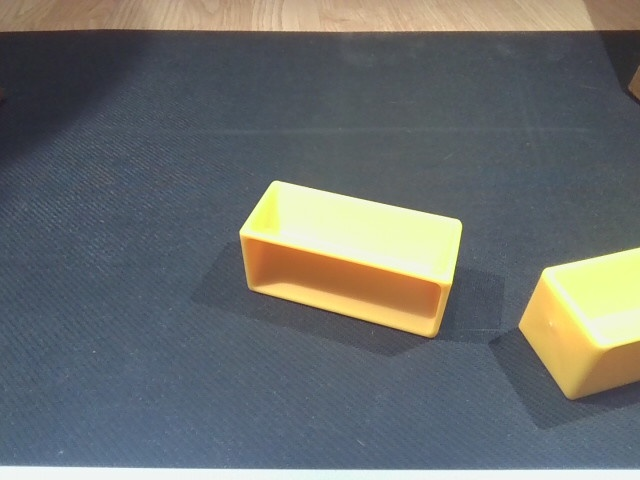YellowSample: (234, 172, 465, 344), (512, 241, 640, 403)
